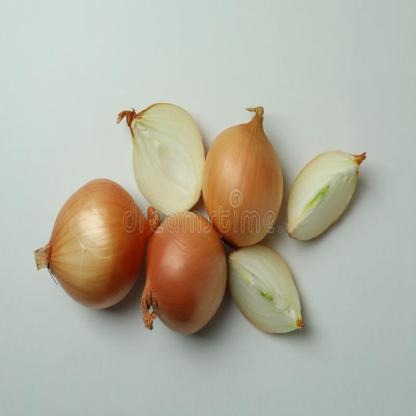onion: (38, 114, 370, 354)
